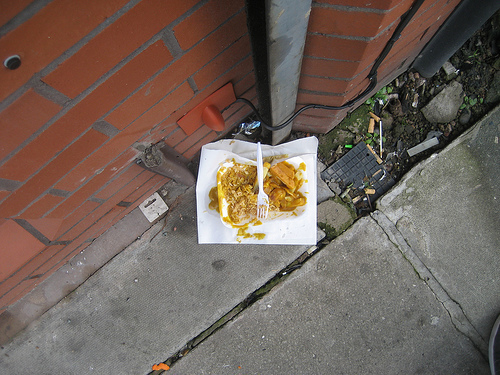litter: (195, 135, 320, 247), (136, 193, 170, 222), (349, 187, 377, 202), (367, 144, 384, 165), (368, 112, 380, 133)
